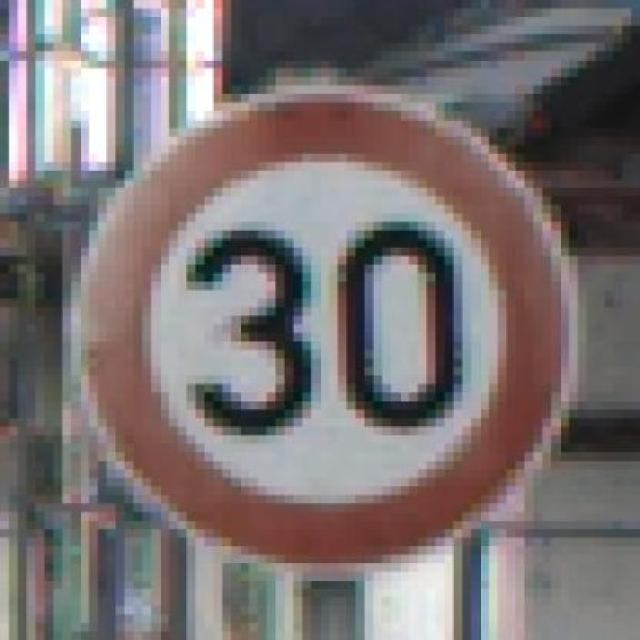Speed Limit 30 KMPh: (35, 51, 631, 572)
